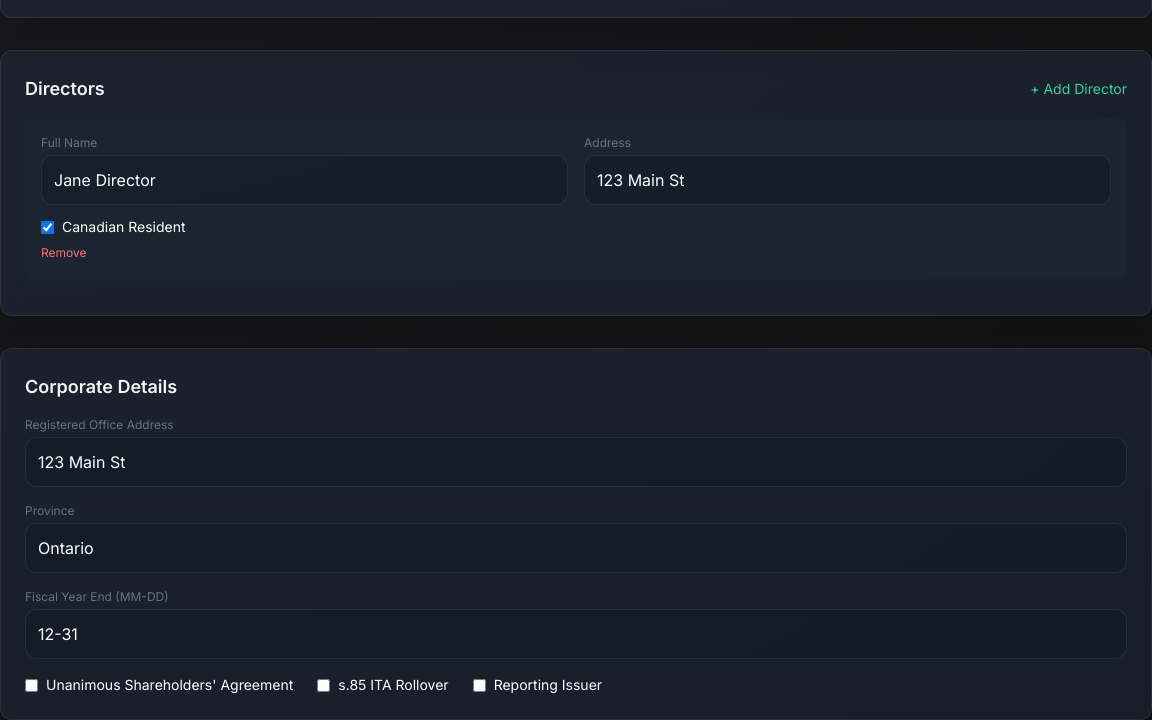
Test: StructureOwnership.vue › shows inline P.O. Box feedback for the registered office
(page scrolled)
Step 1. Replace the text in the field below "Registered Office Address" with "PO Box 100" → {"x": 576, "y": 462}, box [25,437,1127,487]
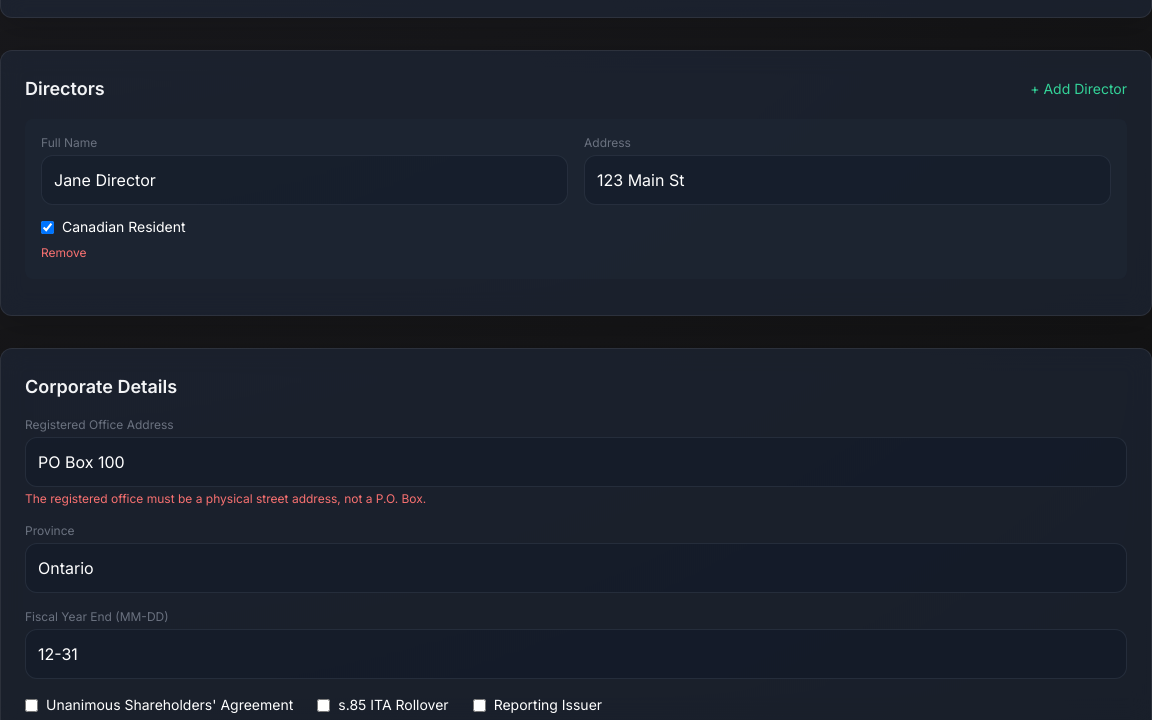
Expected: the text "physical street address" is shown, [25,491,426,506]
